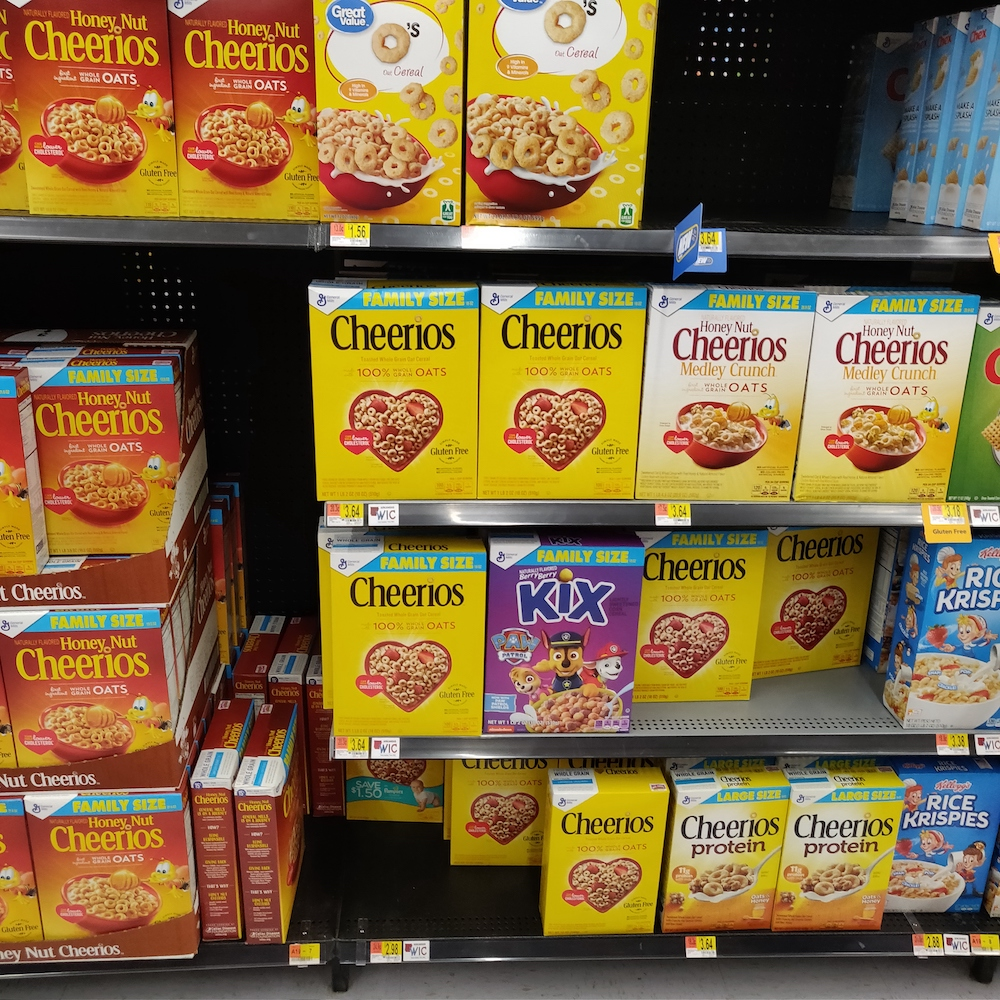Kix Berry -568919964: (496, 549, 633, 733)
